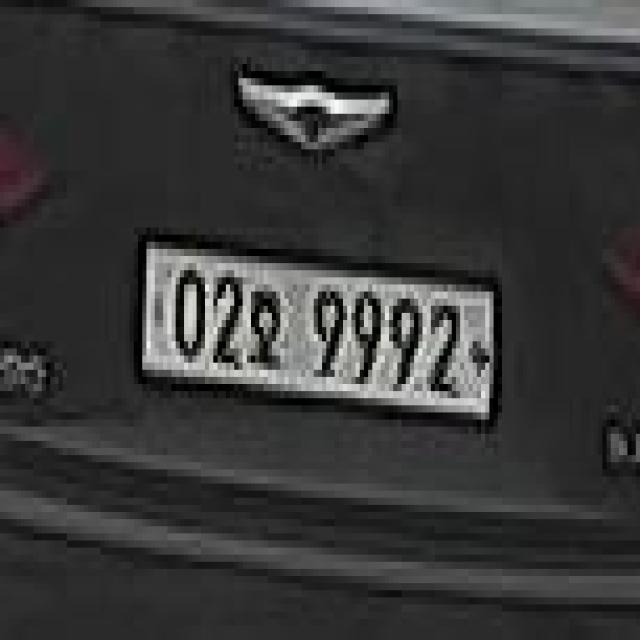illegal_plate: (137, 230, 503, 445)
